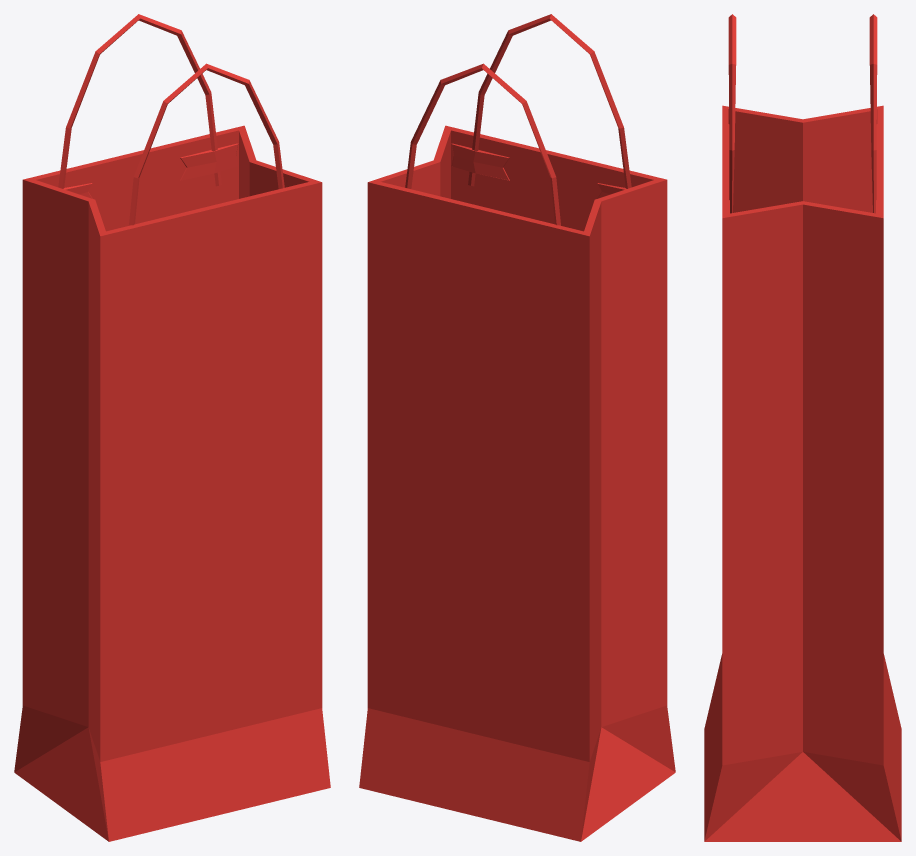
Rendered from SM_Bag_Gift_Christmas_C.fbx.
3 views of the same model, side by side, from view 1: azimuth 30°, elevation 25°; view 2: azimuth 150°, elevation 25°; view 3: azimuth 270°, elevation 25° (orthographic). The views are drawn at different scales.
Visible parts, largest first — view 1: bag-gift-christmas-c; view 2: bag-gift-christmas-c; view 3: bag-gift-christmas-c.
Part boxes in pixels (x1,y1,x2,y2): bag-gift-christmas-c: (14, 14, 330, 841); bag-gift-christmas-c: (359, 14, 675, 841); bag-gift-christmas-c: (704, 14, 901, 841).
Bounding box in the file's own units: 0.1942 × 0.6203 × 0.1438.
